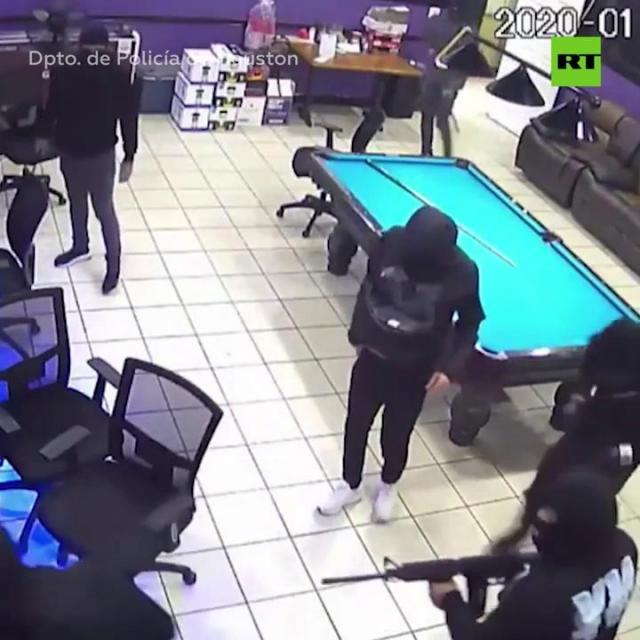weapon: (306, 539, 542, 629)
